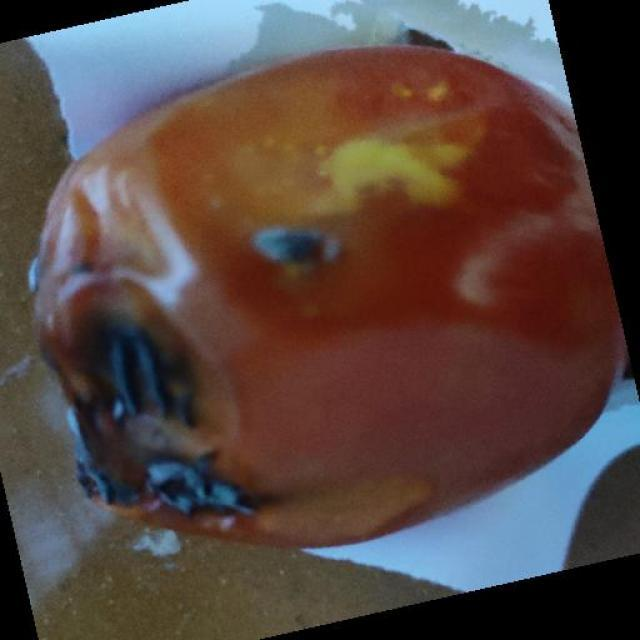Rotten Tomato: (20, 49, 614, 582)
